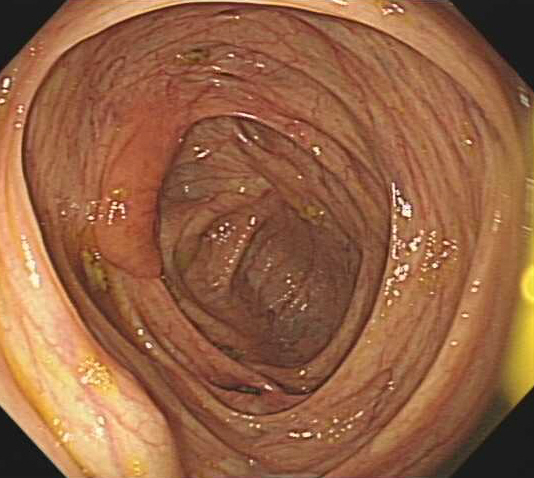others: (94, 116, 172, 281)
